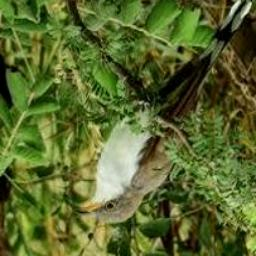Cuckoo: (73, 0, 253, 223)
